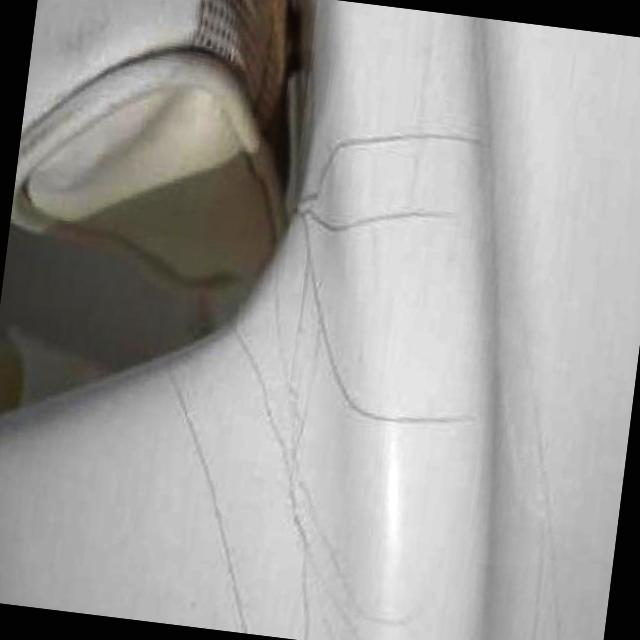crack: (298, 92, 470, 196), (344, 375, 484, 460), (308, 181, 445, 240)
